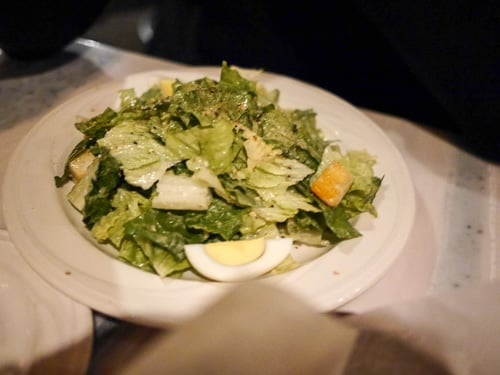pizza: (0, 0, 112, 62)
